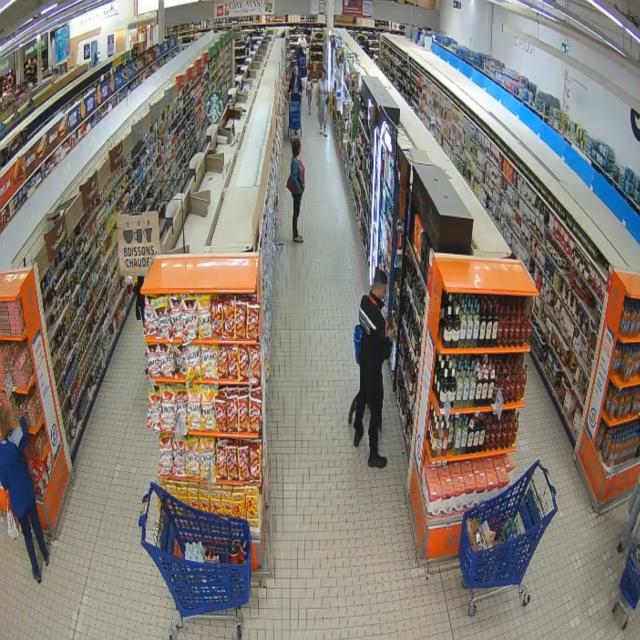article: (387, 305, 392, 331)
bags: (8, 494, 19, 539), (287, 175, 294, 193)
hands: (14, 417, 27, 429), (387, 323, 396, 338), (381, 307, 388, 324)
person: (0, 405, 49, 583), (354, 270, 392, 468), (291, 139, 305, 243)
